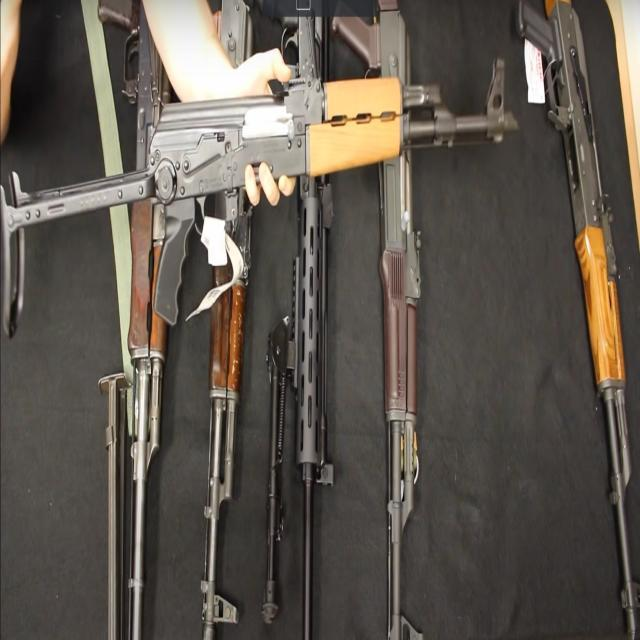ak: (1, 30, 518, 343)
